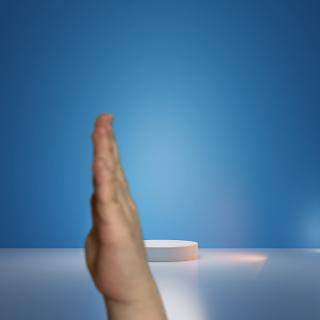RIGHT: (75, 108, 157, 303)
